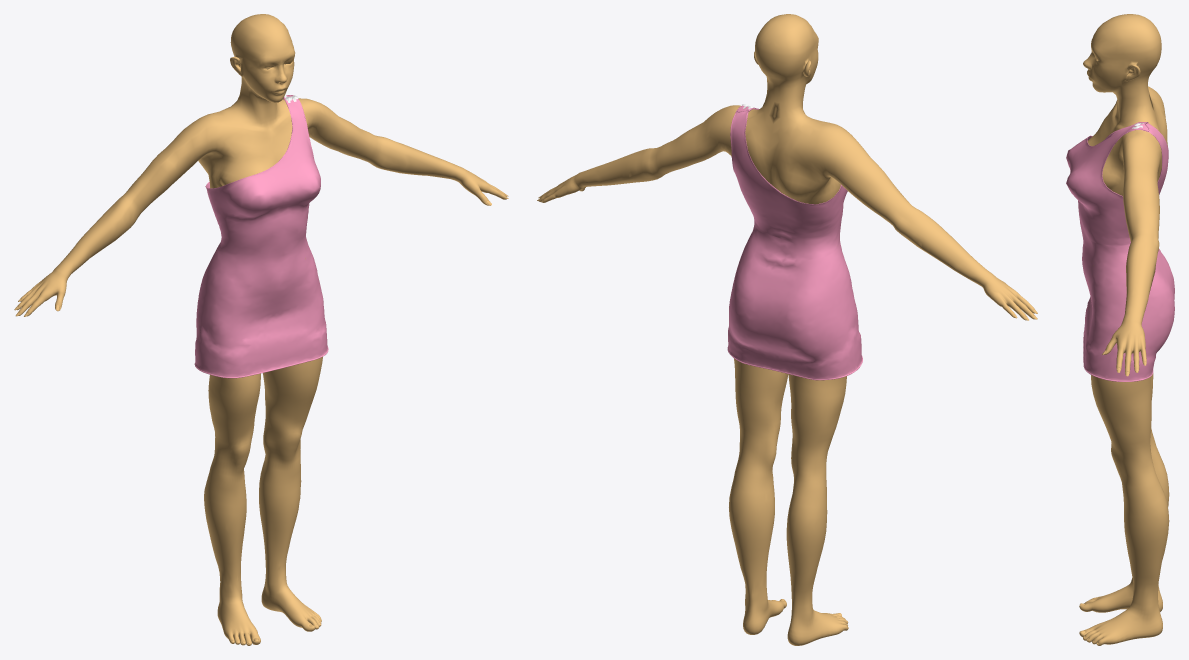
Rendered from dress1.glb.
3 renders of one model, left to right at view 1: azimuth 30°, elevation 25°; view 2: azimuth 150°, elevation 25°; view 3: azimuth 270°, elevation 25°, orthographic.
Visible parts, largest first — view 1: Body, WhiteDress; view 2: Body, WhiteDress; view 3: Body, WhiteDress.
Part boxes in pixels (bbox=[...]): Body: bbox=[17, 14, 507, 645]; WhiteDress: bbox=[194, 95, 328, 378]; Body: bbox=[538, 14, 1035, 645]; WhiteDress: bbox=[727, 104, 862, 380]; Body: bbox=[1079, 14, 1169, 645]; WhiteDress: bbox=[1066, 122, 1174, 381].
Size of the model in its own units: 1.58 by 1.85 by 0.3.
